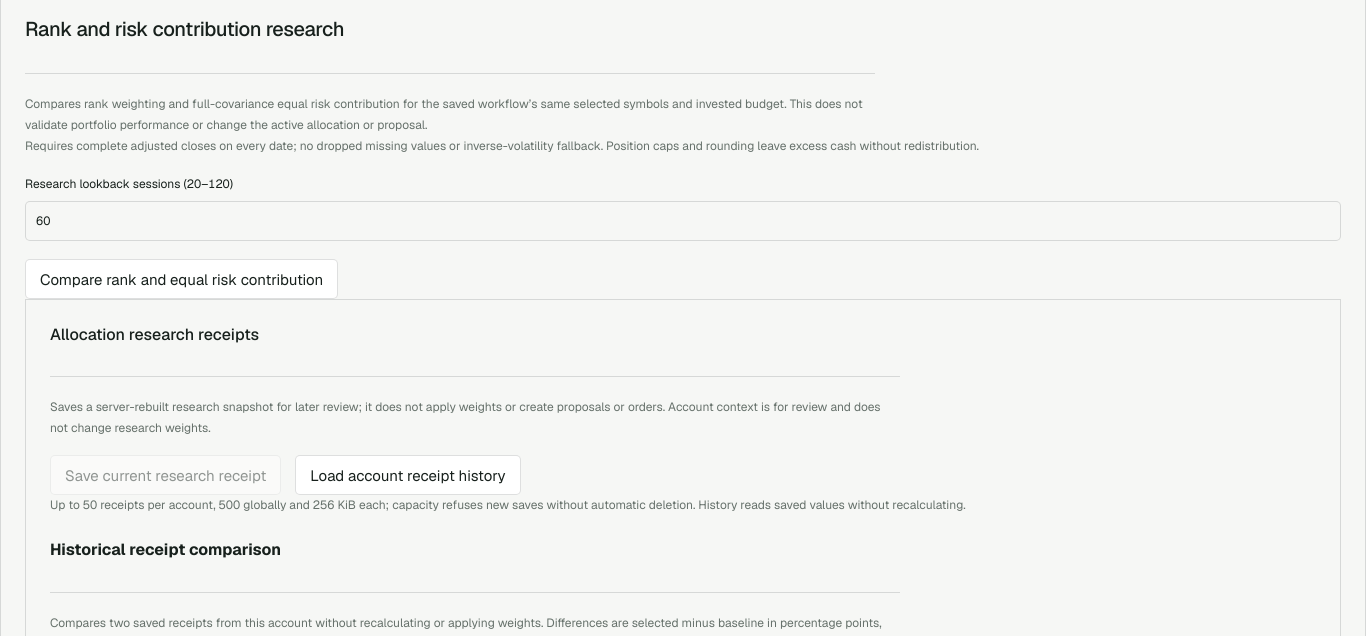
Test: runs only on demand with exact saved identity, displays cash, signed risk contributions and matrices
The image size is (1366, 636).
Click the button "Compare rank and equal risk contribution".
click(182, 279)  # box [25,259,338,299]
(page scrolled)
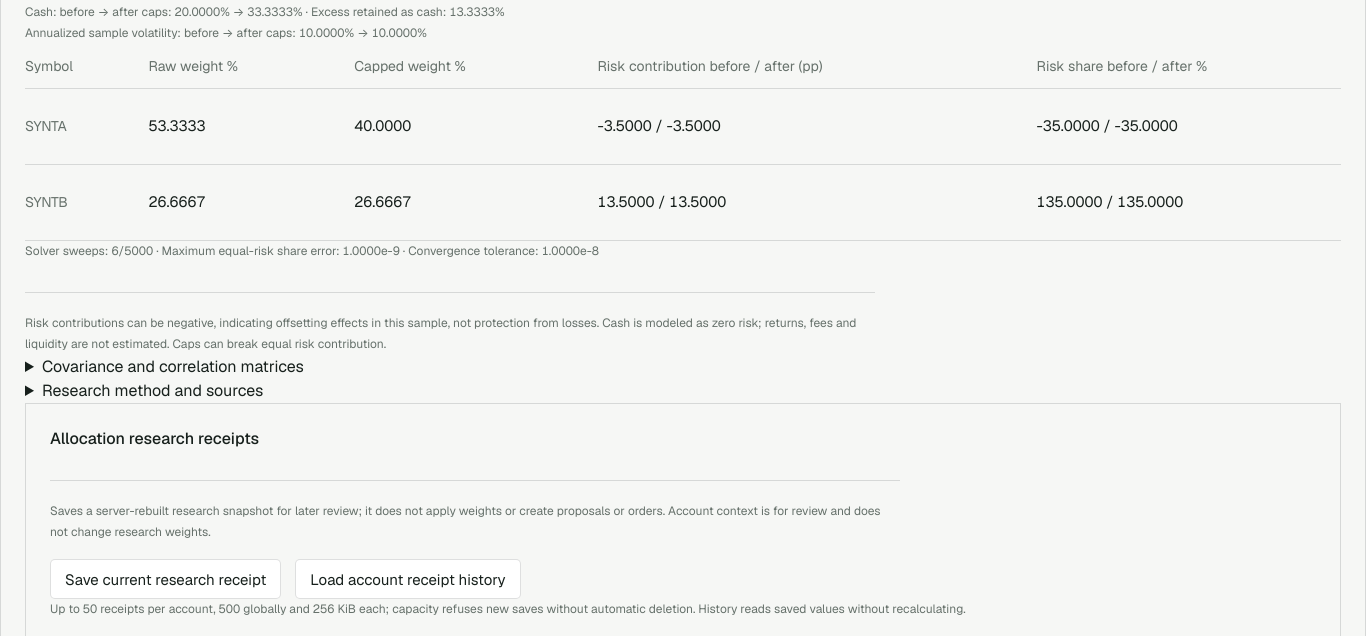
Click the heading "Covariance and correlation matrices".
click(173, 366)  # box [42,356,304,377]
(page scrolled)
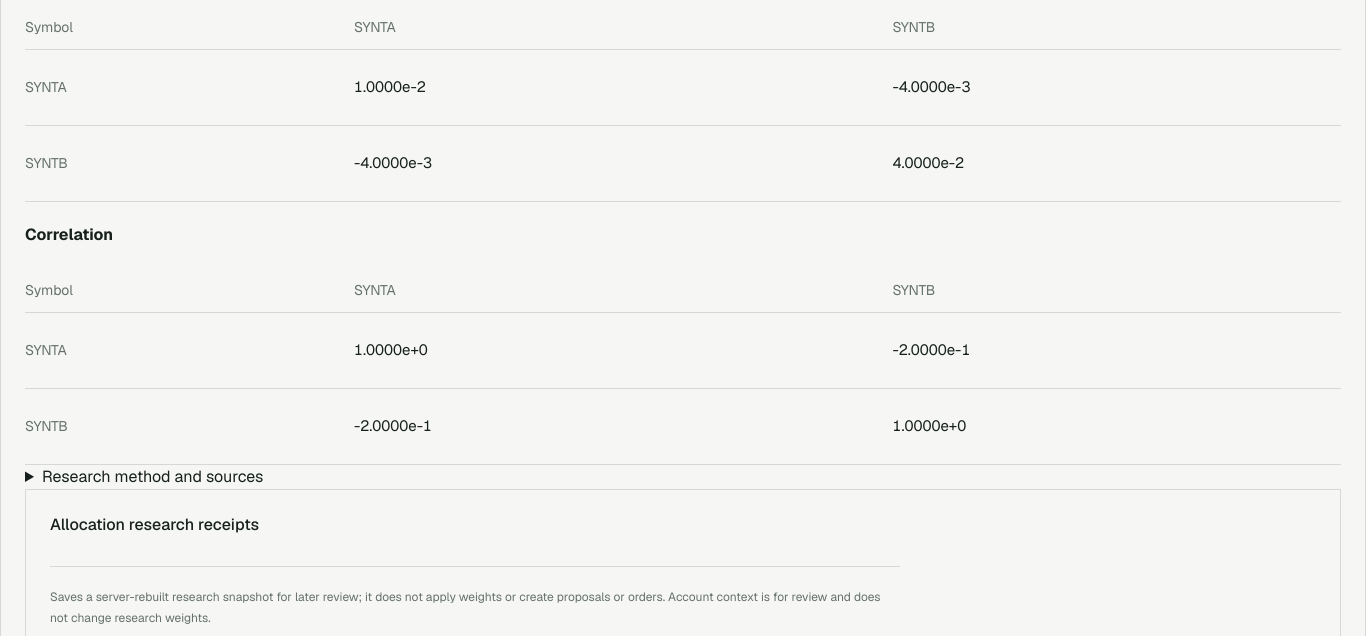
Check: the table named "Annualized covariance" is shown, box [25,5,1341,202]
Check: the table named "Correlation" is shown, box [25,268,1341,465]
Check: the text "-2.0000e-1" is shown 2 times, box [877,312,1341,388]; [339,388,877,464]
